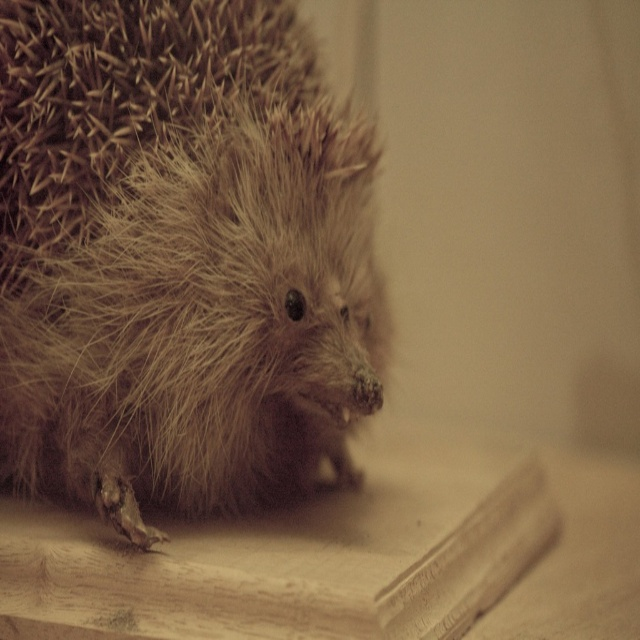Hedgehog: (0, 0, 408, 550)
